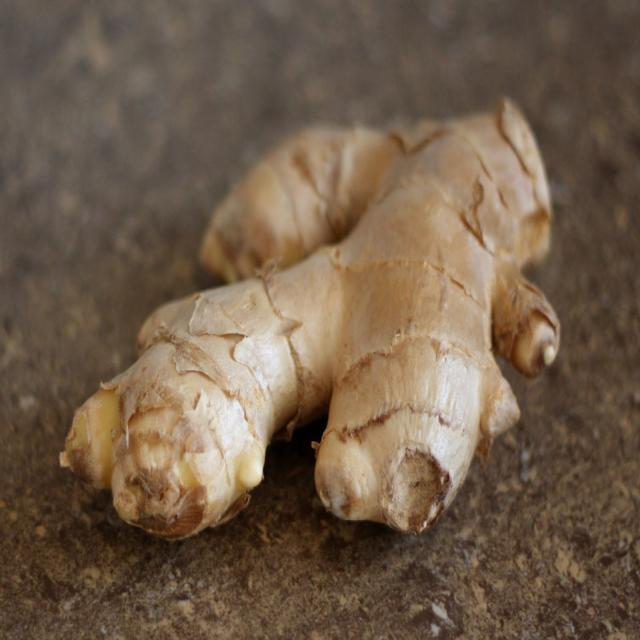ginger: (56, 90, 580, 541)
